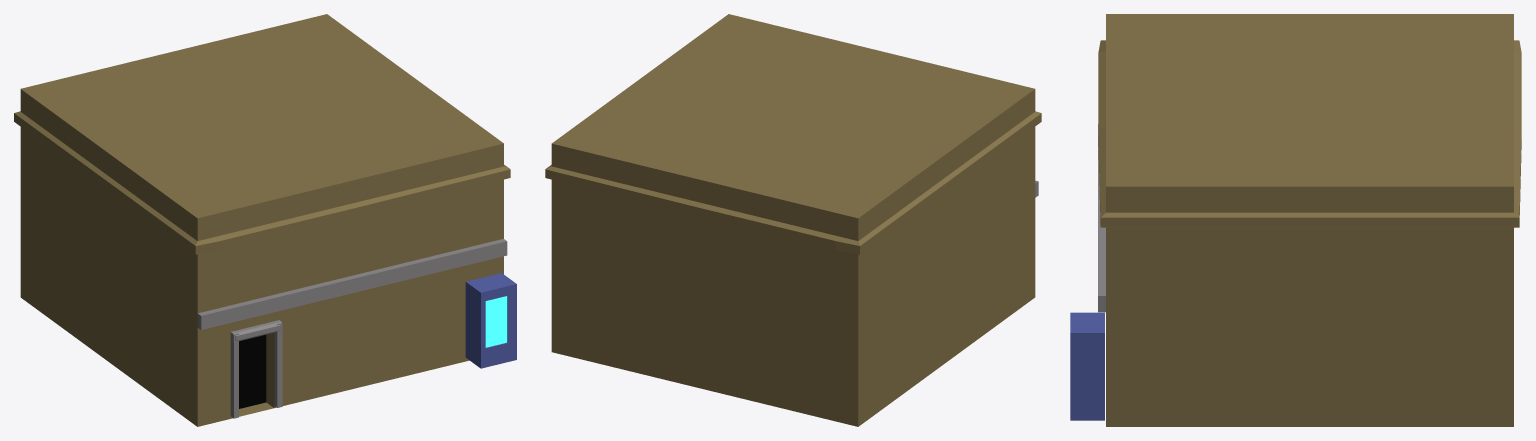
3 renders of one model, left to right at view 1: azimuth 30°, elevation 25°; view 2: azimuth 150°, elevation 25°; view 3: azimuth 270°, elevation 25°, orthographic. The views are drawn at different scales.
Parts seen in each view (by area): view 1: Cube, Cube.006, Cube.007, Cube.001, Cube.008, Cube.004, Cube.005, Cube.002; view 2: Cube; view 3: Cube, Cube.007, Cube.006.
Part boxes in pixels (left/top/right/bottom): Cube: left=14, top=14, right=510, bottom=426; Cube.006: left=197, top=239, right=507, bottom=329; Cube.007: left=465, top=273, right=516, bottom=368; Cube.001: left=239, top=335, right=266, bottom=408; Cube.008: left=485, top=296, right=507, bottom=347; Cube.004: left=230, top=333, right=238, bottom=418; Cube.005: left=274, top=322, right=282, bottom=407; Cube.002: left=230, top=320, right=281, bottom=342; Cube: left=545, top=14, right=1041, bottom=426; Cube: left=1098, top=14, right=1521, bottom=426; Cube.007: left=1070, top=312, right=1104, bottom=420; Cube.006: left=1098, top=124, right=1105, bottom=312.
Size of what is drawn, in the model's own units: 12.8 by 8.1 by 13.79.
